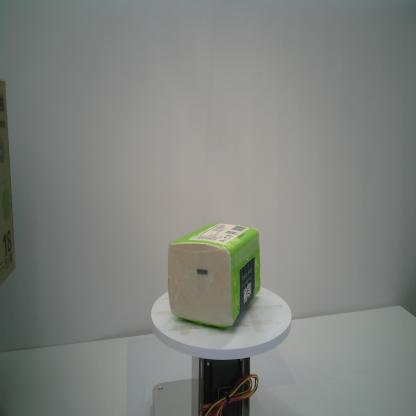Tissue: (166, 219, 261, 331)
